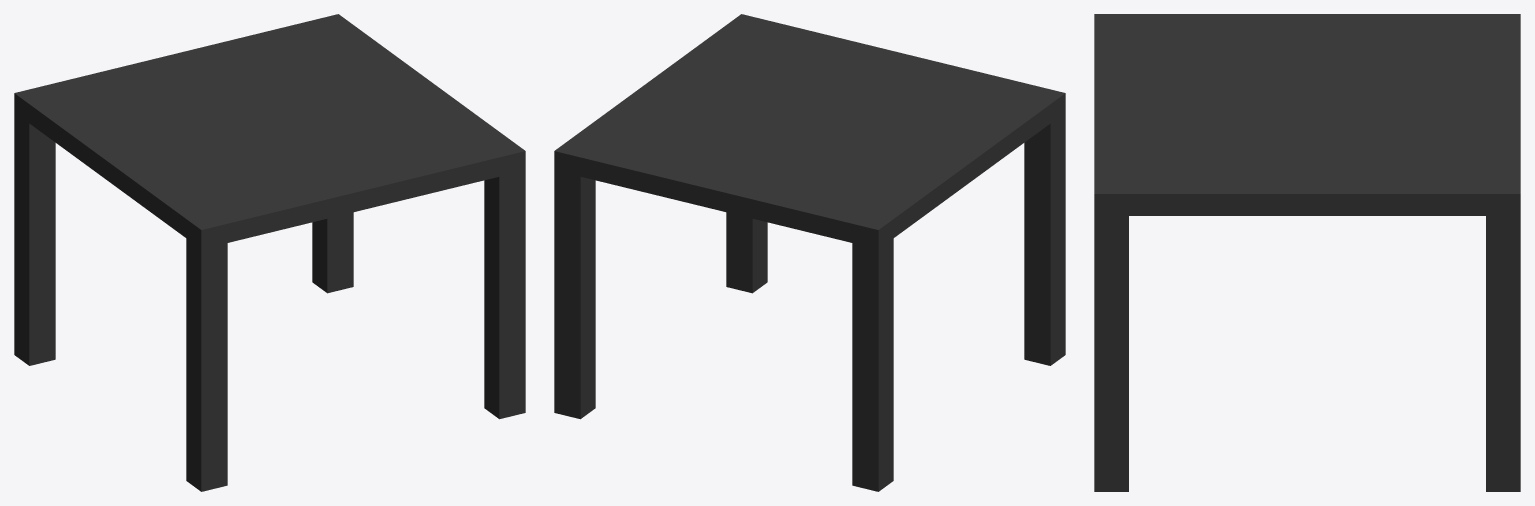
Rendered from Table_07.fbx.
3 views of the same model, side by side, from view 1: azimuth 30°, elevation 25°; view 2: azimuth 150°, elevation 25°; view 3: azimuth 270°, elevation 25° (orthographic). The views are drawn at different scales.
Parts seen in each view (by area): view 1: Table_07; view 2: Table_07; view 3: Table_07.
Boxes of the visible parts, x1,y1,x2,y2 form: Table_07: (14, 14, 525, 491); Table_07: (554, 14, 1065, 491); Table_07: (1094, 14, 1520, 491).
Size of the model in its own units: 110 by 84.89 by 110.
